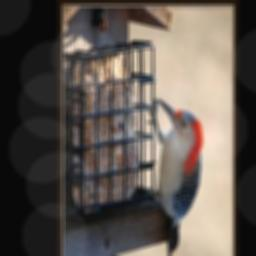Woodpecker: (144, 98, 202, 256)
